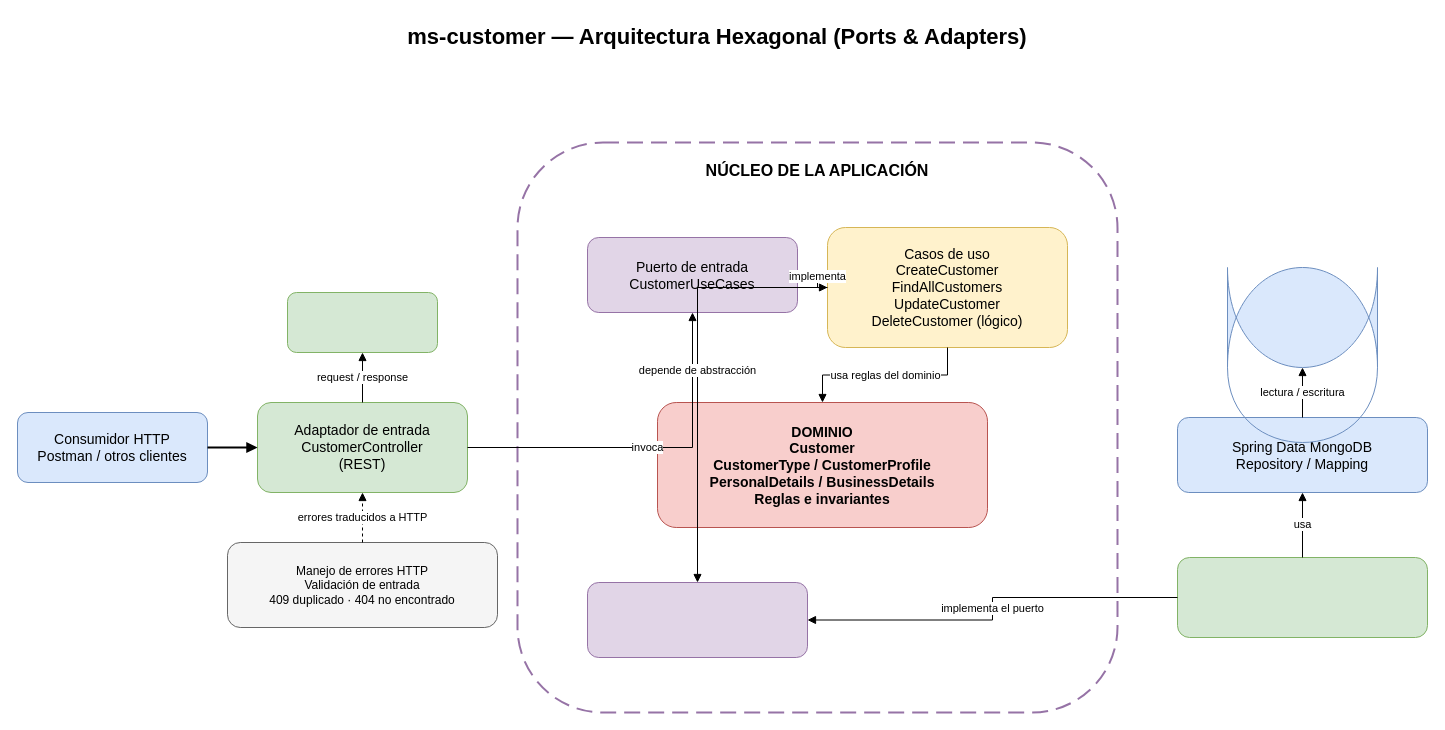
The diagram is 1445 pixels wide and 730 high, and some of its shapes have lost their labels. The box of each missing label's shape, as (x1, y1, x2, y2) in pixels:
Adaptador de salida MongoCustomerRepositoryAdapter: (1176, 556, 1428, 638)
DTOs Request / Response: (286, 292, 438, 352)
MongoDB Base de datos propia Colección customers: (1226, 266, 1378, 368)
Puerto de salida CustomerRepositoryPort: (586, 582, 808, 658)
